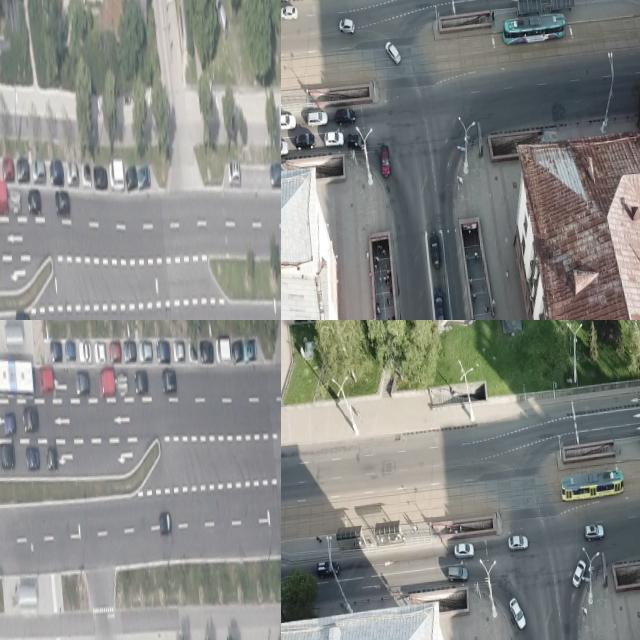UAI: (212, 0, 228, 39), (508, 597, 526, 630), (108, 157, 124, 191), (570, 558, 588, 588), (48, 156, 64, 187), (429, 233, 442, 270), (21, 406, 38, 434), (98, 369, 115, 397), (160, 367, 177, 394), (316, 558, 340, 577), (54, 189, 70, 217), (346, 131, 367, 152), (334, 106, 356, 126), (226, 158, 241, 187), (38, 366, 54, 393), (215, 336, 231, 363), (27, 188, 42, 216), (0, 441, 15, 469), (432, 288, 445, 320), (379, 143, 391, 177), (385, 39, 401, 64), (24, 445, 40, 470), (583, 522, 604, 541), (294, 132, 316, 150), (446, 564, 468, 582), (15, 156, 29, 184), (1, 154, 15, 182), (31, 158, 46, 184), (74, 370, 89, 396), (324, 129, 345, 147), (453, 541, 474, 559), (507, 533, 528, 551), (92, 165, 107, 190), (134, 370, 149, 395), (199, 338, 214, 363), (155, 338, 170, 363), (268, 160, 281, 188), (136, 163, 150, 189), (306, 110, 328, 126), (45, 445, 58, 471), (9, 188, 21, 216), (125, 163, 137, 191), (116, 370, 128, 398), (138, 339, 152, 363), (65, 160, 78, 185), (231, 338, 244, 363), (243, 338, 257, 360), (159, 512, 172, 535), (123, 340, 136, 363), (49, 339, 62, 362), (338, 18, 355, 35), (172, 339, 185, 361), (108, 341, 121, 363), (78, 341, 91, 363), (0, 181, 8, 216), (3, 412, 15, 435), (80, 162, 91, 187), (281, 4, 297, 21), (281, 112, 296, 130), (94, 340, 106, 362), (64, 340, 75, 362), (188, 340, 198, 362), (14, 309, 31, 320), (281, 140, 288, 158)
car: (559, 469, 624, 502), (501, 13, 567, 44), (0, 354, 34, 402)
